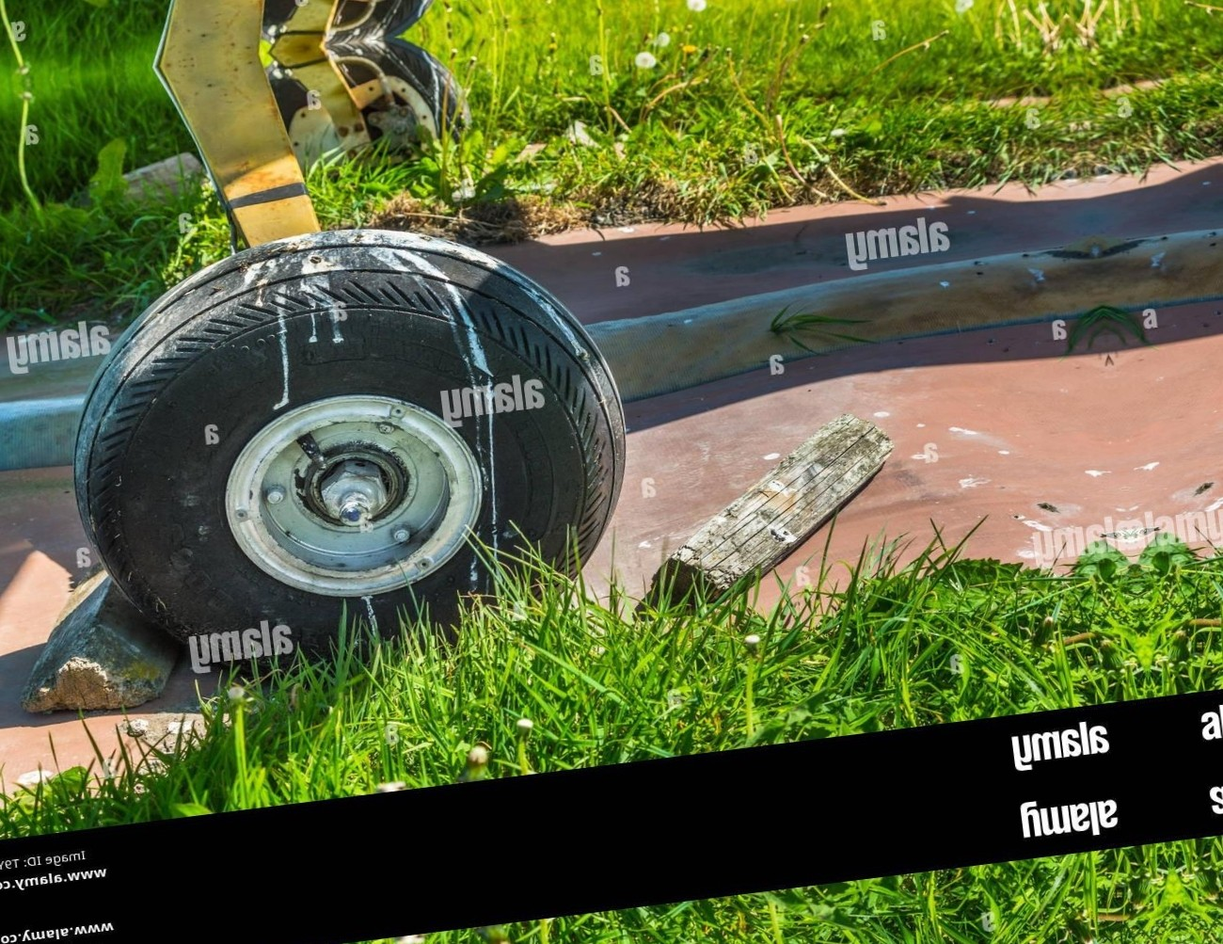chock: (629, 393, 913, 618), (2, 543, 186, 725)
wheel: (48, 198, 650, 690)
